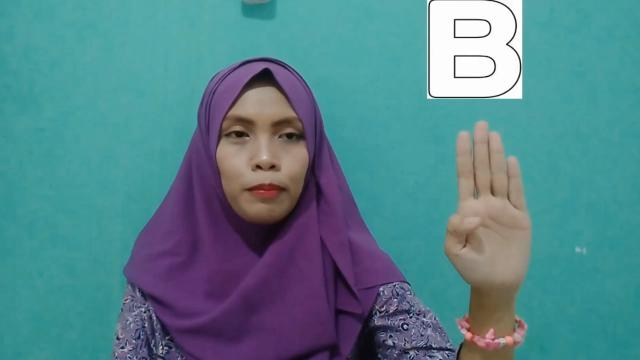B: (444, 119, 538, 295)
